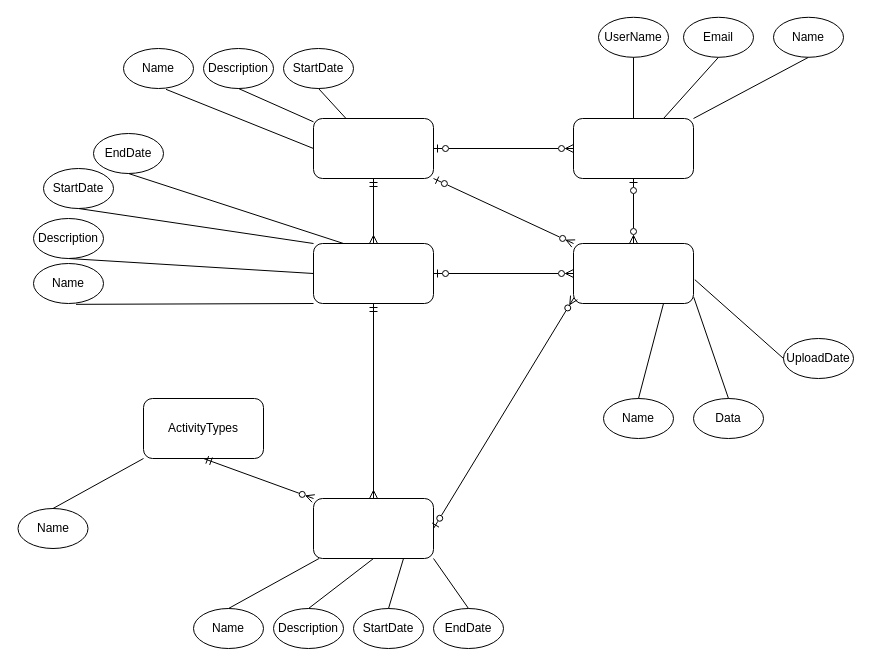
The diagram is 871 pixels wide and 667 high, and some of its shapes have lost their labels. The centre of each missing label's shape, as x and y in pixels:
"Activities" belongs at (x=373, y=528).
"Courses" belongs at (x=373, y=148).
"Documents" belongs at (x=633, y=273).
"Modules" belongs at (x=373, y=273).
"Users" belongs at (x=633, y=148).
